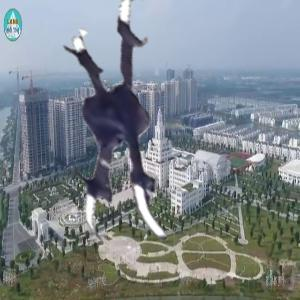drone: (21, 3, 263, 245)
